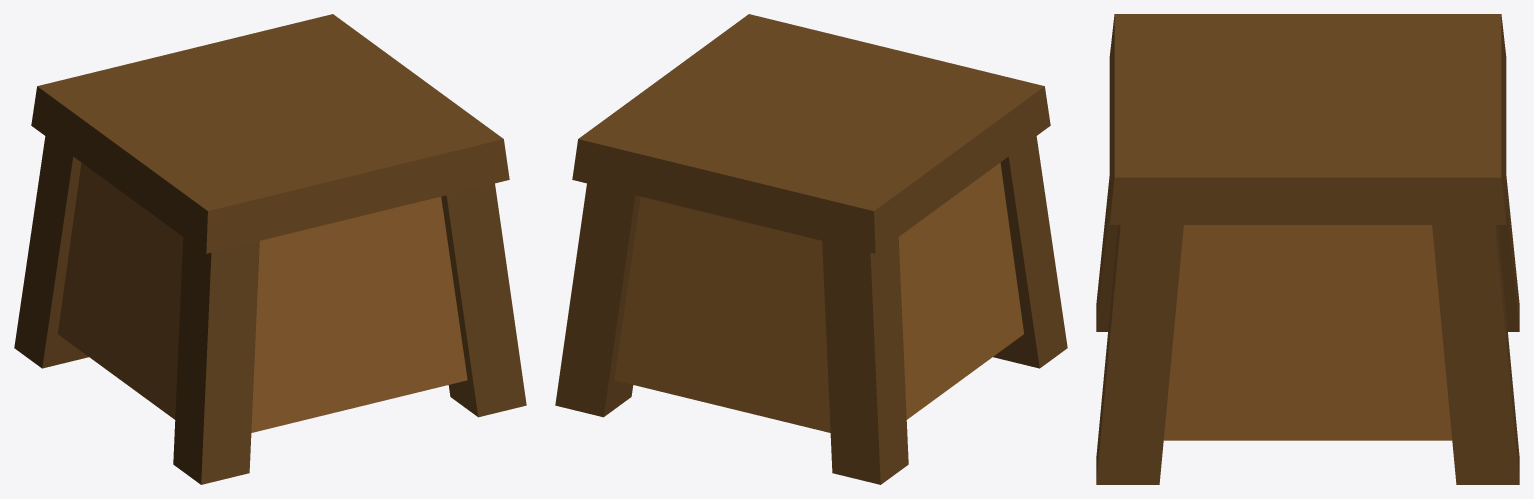
Rendered from Proxy_Chair.fbx.
3 views of the same model, side by side, from view 1: azimuth 30°, elevation 25°; view 2: azimuth 150°, elevation 25°; view 3: azimuth 270°, elevation 25° (orthographic). The views are drawn at different scales.
Visible parts, largest first — view 1: Proxy_Chair; view 2: Proxy_Chair; view 3: Proxy_Chair.
Part boxes in pixels (box(x1,y1,x2,y2)): Proxy_Chair: box(14, 14, 526, 484); Proxy_Chair: box(555, 14, 1067, 484); Proxy_Chair: box(1096, 14, 1519, 484).
Size of the model in its own units: 178 by 178 by 138.
